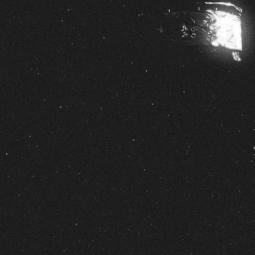lisa_pathfinder: (120, 0, 253, 67)
